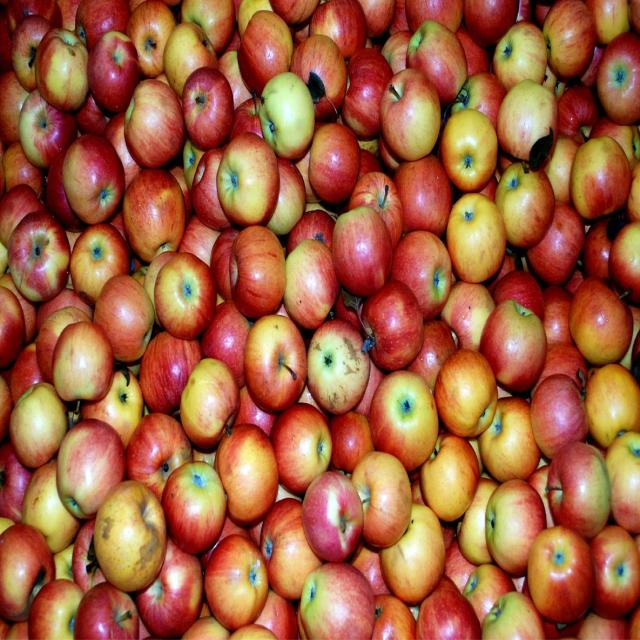apple: (92, 482, 166, 592), (55, 419, 126, 518), (527, 526, 596, 624), (368, 372, 436, 471), (150, 252, 226, 340), (135, 540, 203, 637), (204, 535, 272, 631), (377, 502, 442, 602), (479, 298, 547, 392), (261, 498, 323, 600), (242, 314, 306, 412), (544, 444, 610, 539), (160, 462, 227, 554), (216, 132, 280, 228), (298, 561, 375, 640), (122, 167, 186, 262), (126, 412, 192, 504), (484, 480, 547, 574), (218, 426, 279, 523), (61, 134, 126, 225), (7, 210, 70, 303), (380, 68, 442, 161), (78, 366, 144, 453), (20, 459, 81, 553), (568, 278, 633, 366), (301, 471, 363, 563), (123, 80, 185, 170), (305, 320, 365, 412), (228, 224, 286, 319), (434, 350, 498, 436), (92, 276, 155, 363), (478, 398, 541, 485), (496, 80, 559, 166), (494, 161, 556, 248), (331, 207, 390, 298), (269, 404, 329, 493), (390, 231, 450, 320), (420, 435, 480, 524), (179, 361, 241, 447), (361, 281, 422, 368), (51, 321, 114, 405), (405, 19, 467, 104), (140, 330, 202, 415), (570, 136, 632, 220), (446, 190, 505, 277), (529, 374, 589, 459), (9, 381, 67, 468), (69, 225, 130, 306), (440, 109, 499, 192), (583, 363, 640, 447), (393, 157, 451, 239), (34, 28, 90, 112), (18, 90, 76, 170), (527, 204, 585, 284), (181, 67, 236, 150), (200, 302, 252, 389), (346, 171, 401, 251), (342, 48, 391, 136), (162, 21, 218, 98), (87, 31, 140, 112), (542, 0, 596, 78), (492, 19, 549, 92), (308, 123, 358, 202), (461, 563, 518, 631), (125, 1, 175, 77)
